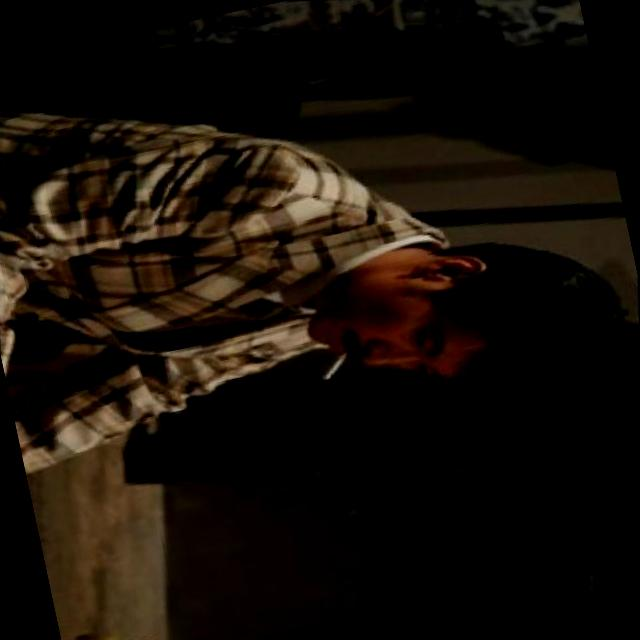smoke: (313, 345, 357, 391)
